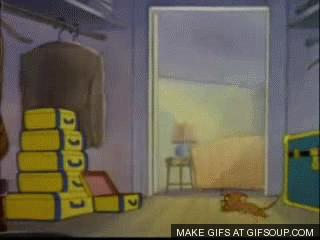jerry: (219, 191, 281, 219)
